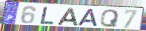6: (20, 5, 37, 24)
7: (123, 9, 140, 29)
A: (56, 7, 79, 26), (77, 8, 99, 27)
L: (40, 6, 56, 25)
Q: (99, 9, 120, 28)
